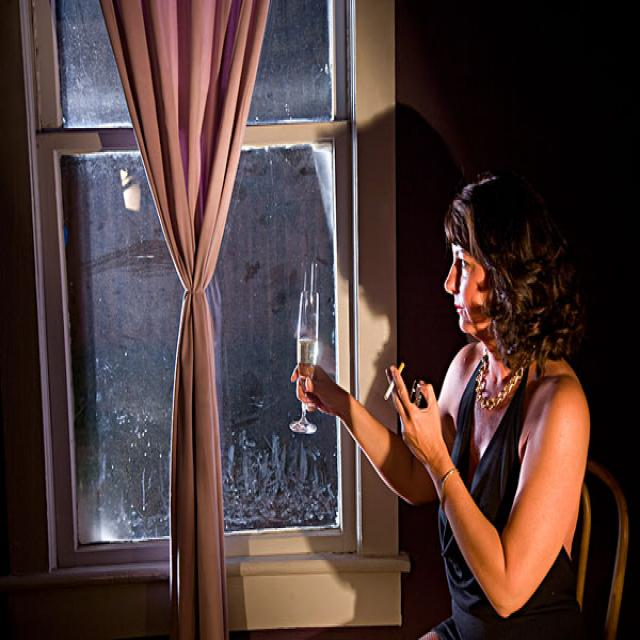smoking: (384, 360, 404, 403)
